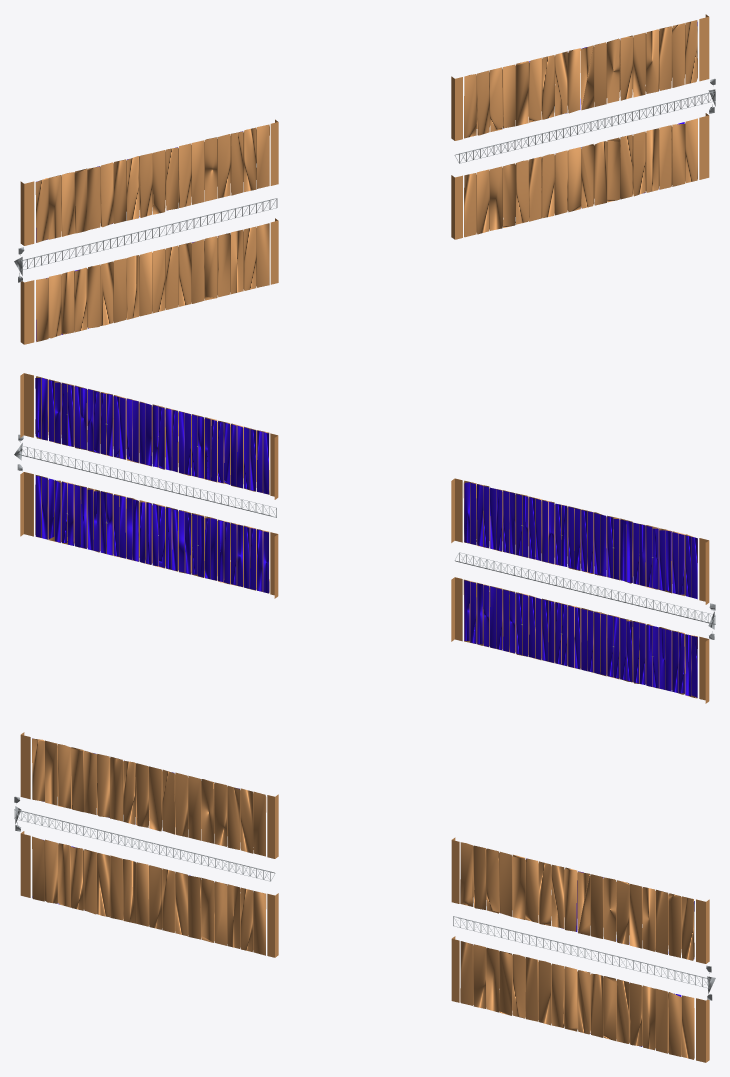
The model's file is tiangong-tianhe-arrays.glb.
3 views of the same model, one above another, from view 1: azimuth 30°, elevation 25°; view 2: azimuth 150°, elevation 25°; view 3: azimuth 330°, elevation 25° (orthographic).
Parts seen in each view (by area): view 1: tianhe-arrays; view 2: tianhe-arrays; view 3: tianhe-arrays.
Part boxes in pixels (box(x1,y1,x2,y2)): tianhe-arrays: box(14, 14, 715, 344); tianhe-arrays: box(14, 373, 715, 703); tianhe-arrays: box(14, 732, 715, 1062).
Size of the model in its own units: 24.26 by 5.38 by 0.4768.
1 material, 1 textured.
